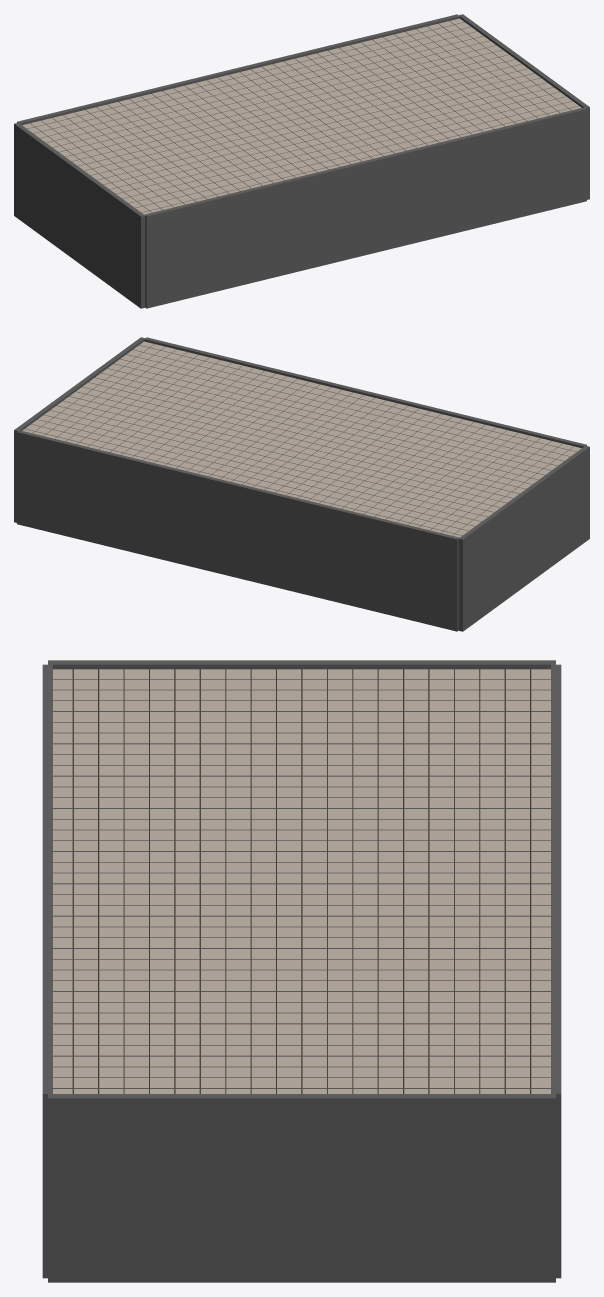
File: insider.glb
The picture shows the model from 3 angles, top to bottom: view 1: azimuth 30°, elevation 25°; view 2: azimuth 150°, elevation 25°; view 3: azimuth 270°, elevation 25°; orthographic projection. The views are drawn at different scales.
Visible parts, largest first — view 1: Grid, Cube.003, Cube, Cube.002, Cube.001; view 2: Grid, Cube.002, Cube, Cube.003, Cube.001; view 3: Grid, Cube.001, Cube.002, Cube.003, Cube.
Boxes of the visible parts, x1,y1,x2,y2 form: Grid: (22, 18, 581, 214); Cube.003: (144, 107, 586, 308); Cube: (14, 122, 145, 308); Cube.002: (17, 14, 459, 125); Cube.001: (459, 14, 589, 199); Grid: (22, 341, 581, 537); Cube.002: (17, 430, 459, 631); Cube: (458, 445, 589, 631); Cube.003: (144, 337, 586, 448); Cube.001: (14, 337, 144, 522); Grid: (53, 669, 550, 1093); Cube.001: (48, 1094, 555, 1282); Cube.002: (551, 664, 561, 1278); Cube.003: (42, 664, 52, 1278); Cube: (48, 660, 555, 669).
Bounding box in the file's own units: 204 × 40 × 102.
